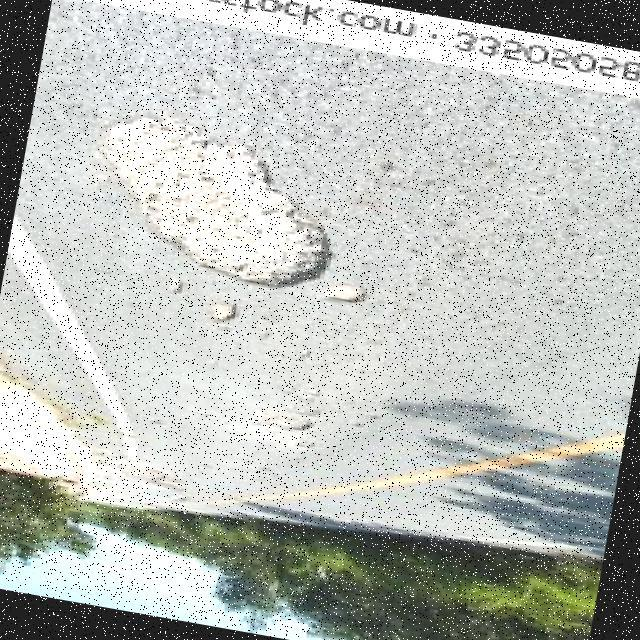Pothole: (96, 113, 334, 288)
